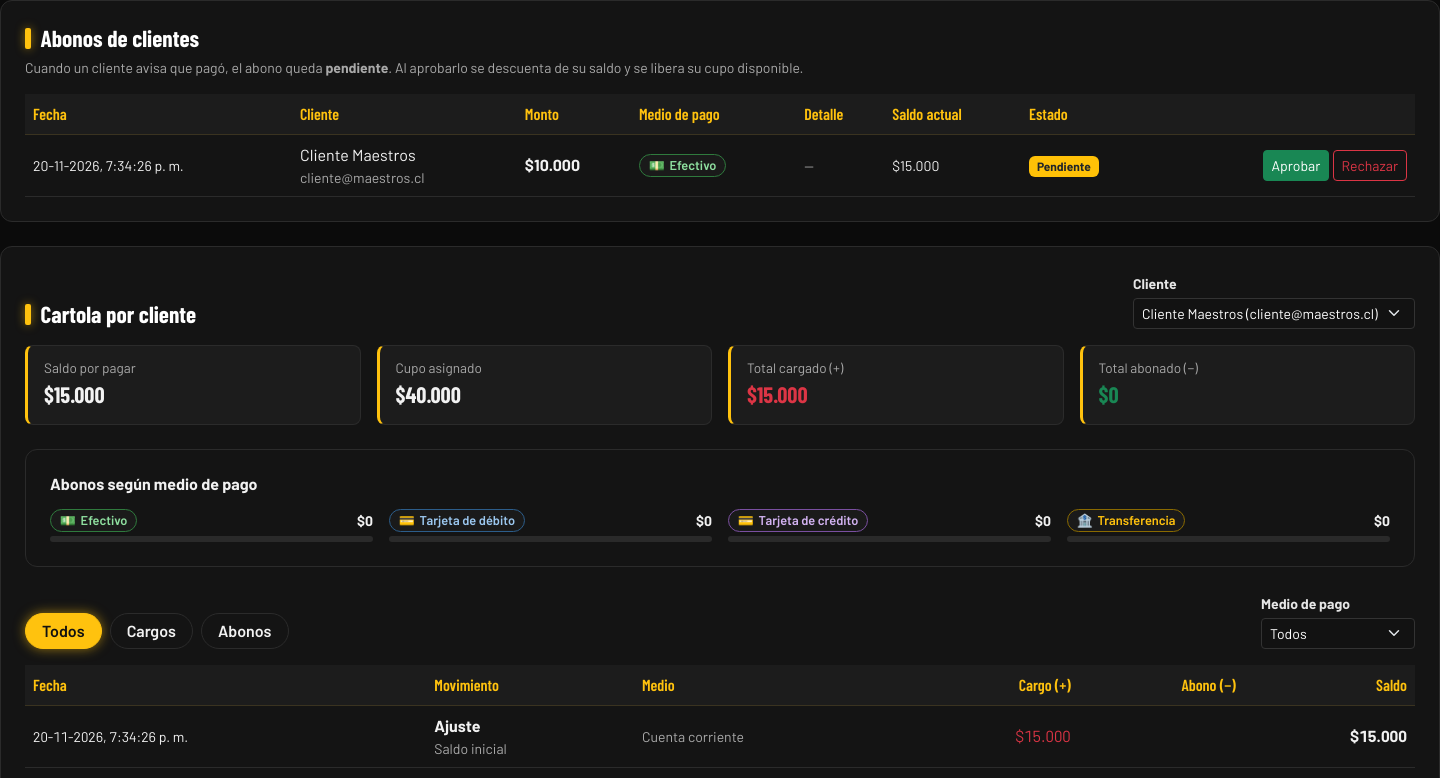
Componente AdminAbonos (el admin ve y aprueba los abonos del cliente) › al aprobar baja el saldo del cliente y el abono pasa a Aprobado
The image size is (1440, 778).
Click the button with class "btn-aprobar" at (1296, 165), box [1263,150,1329,181]
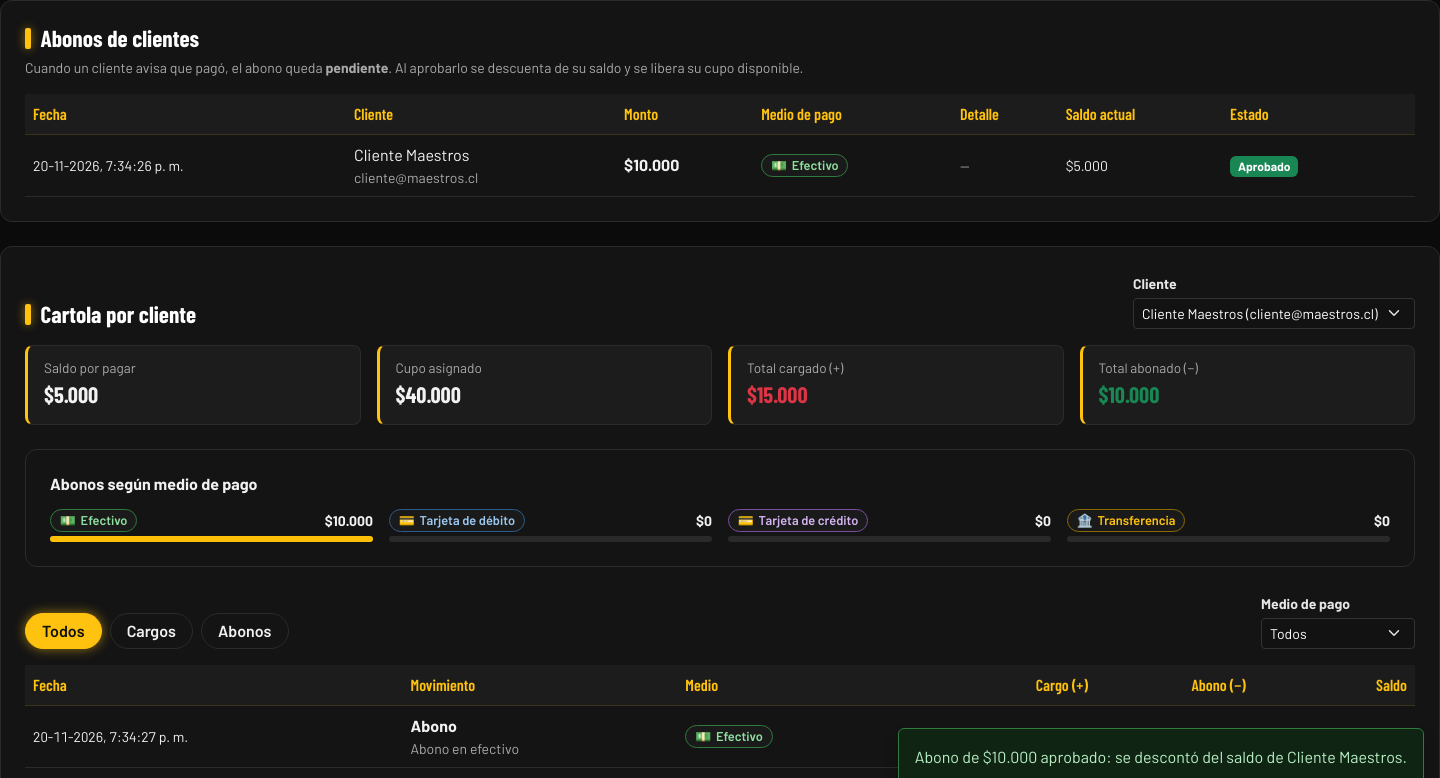
Result: the text with class "badge" reads "Aprobado" at [1238,159,1290,173]
Result: the button with class "btn-aprobar" is gone
